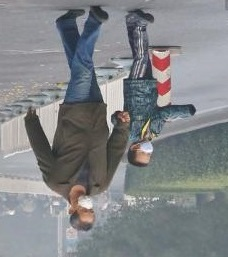person: (21, 7, 132, 233), (110, 9, 196, 166), (1, 190, 17, 218), (21, 192, 36, 218), (50, 194, 67, 215)
